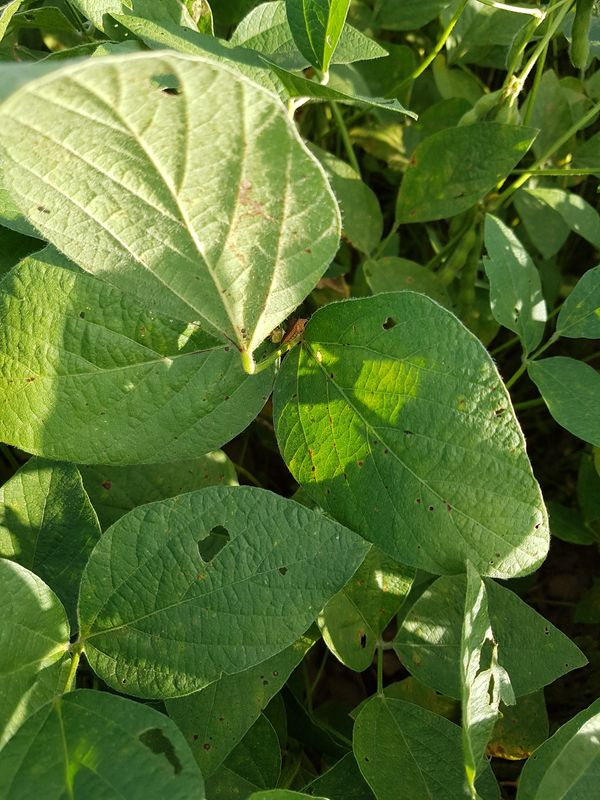Euschistus_heros_adulto: (274, 310, 314, 350)
